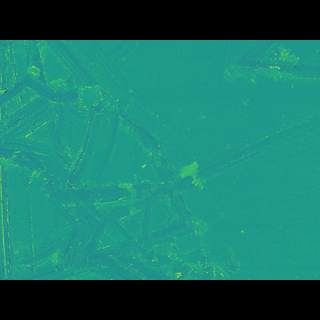Loch: (0, 69, 233, 251), (188, 120, 320, 178), (220, 70, 320, 106)
